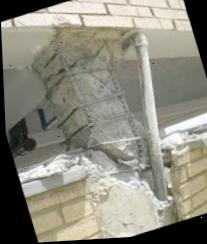exposed_rebar: (57, 93, 122, 127), (65, 113, 131, 139), (67, 136, 140, 153)
spalling: (30, 26, 168, 207)
